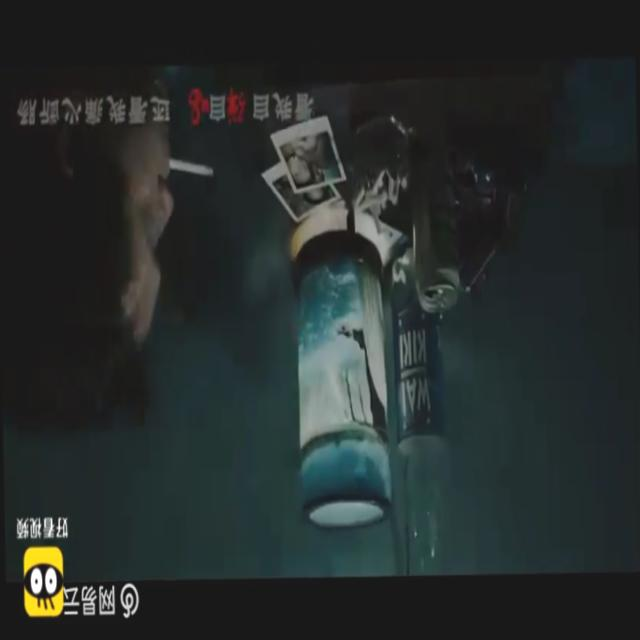smoke: (172, 145, 216, 192)
